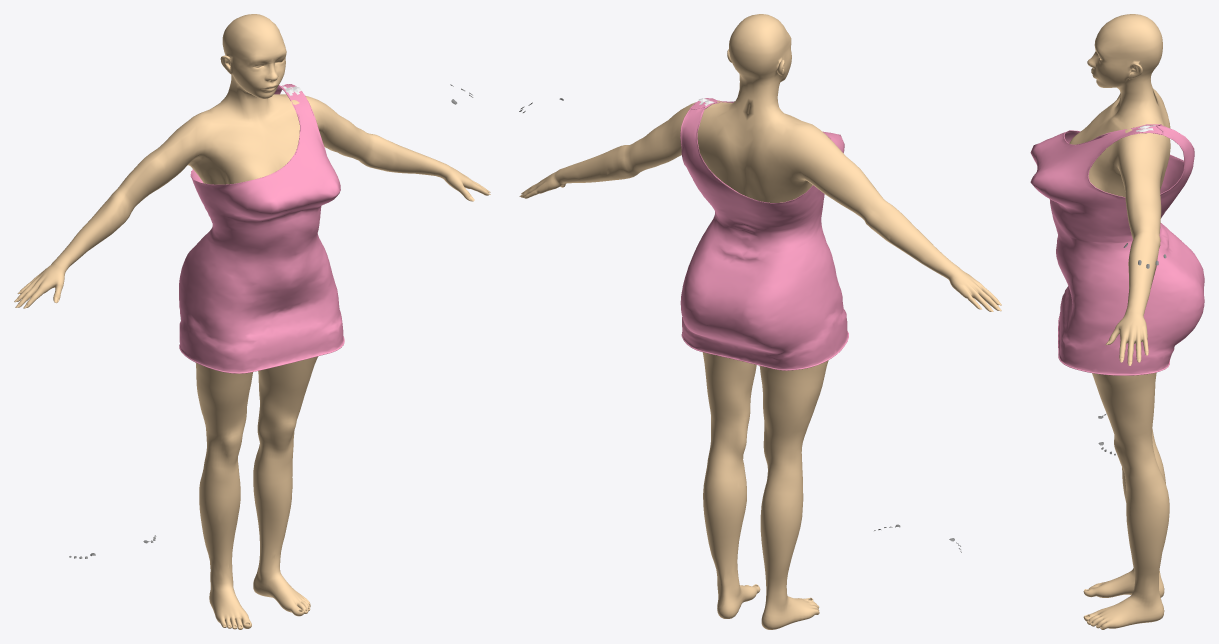
Rendered from dress1.glb.
3 views of the same model, side by side, from view 1: azimuth 30°, elevation 25°; view 2: azimuth 150°, elevation 25°; view 3: azimuth 270°, elevation 25° (orthographic).
Parts seen in each view (by area): view 1: Body.003, WhiteDress; view 2: Body.003, WhiteDress; view 3: Body.003, WhiteDress.
Part boxes in pixels (x1,y1,x2,y2): Body.003: [16, 14, 490, 629]; WhiteDress: [179, 84, 344, 373]; Body.003: [521, 14, 999, 629]; WhiteDress: [680, 98, 848, 370]; Body.003: [1069, 14, 1170, 629]; WhiteDress: [1030, 124, 1204, 375].
Bounding box in the file's own units: 1.58 × 1.87 × 0.4982.
